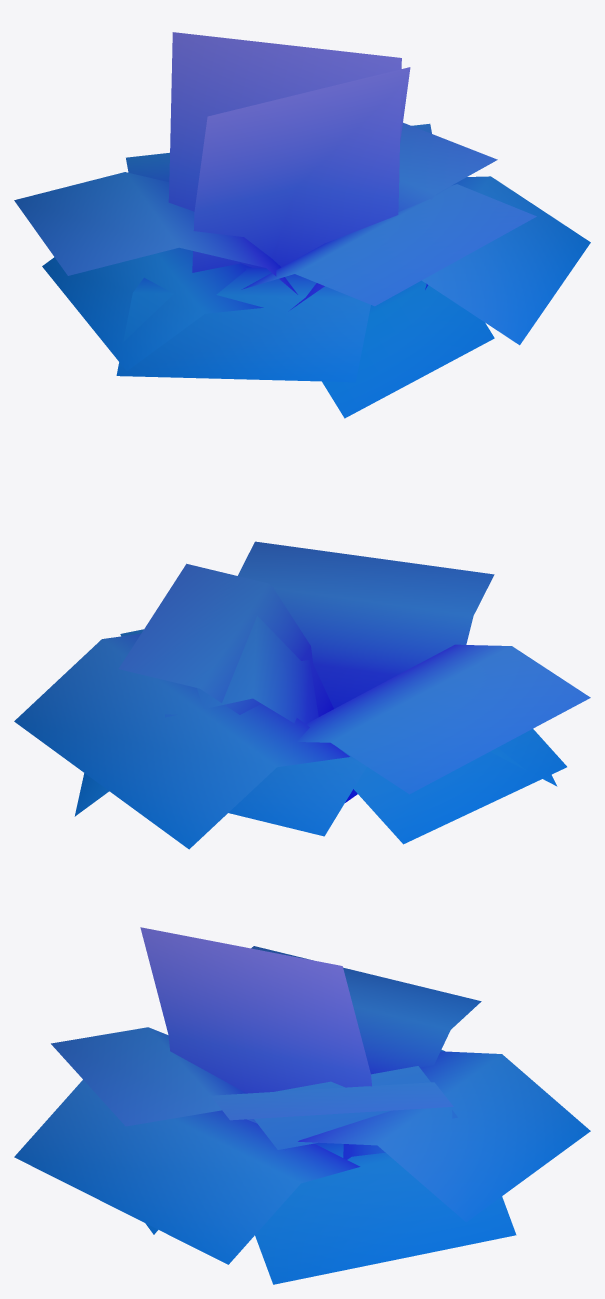
The model's file is SM_Env_Grass_Bush_01.gltf.
3 renders of one model, top to bottom at view 1: azimuth 30°, elevation 25°; view 2: azimuth 150°, elevation 25°; view 3: azimuth 270°, elevation 25°, orthographic. The views are drawn at different scales.
Visible parts, largest first — view 1: SM_Env_Grass_Bush_01_LOD0; view 2: SM_Env_Grass_Bush_01_LOD0; view 3: SM_Env_Grass_Bush_01_LOD0.
Part boxes in pixels (x1,y1,x2,y2): SM_Env_Grass_Bush_01_LOD0: [14, 32, 590, 418]; SM_Env_Grass_Bush_01_LOD0: [14, 541, 590, 849]; SM_Env_Grass_Bush_01_LOD0: [14, 927, 590, 1284].
Bounding box in the file's own units: 2.28 × 1.2 × 2.31.
